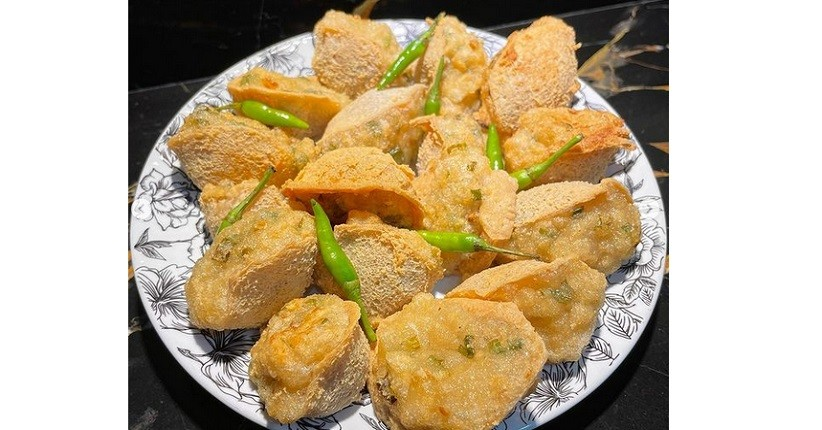Tahu: (379, 305, 541, 415), (190, 194, 312, 319), (245, 291, 367, 412), (471, 16, 591, 128), (288, 151, 421, 235), (319, 217, 446, 299), (506, 98, 619, 178), (508, 181, 628, 252), (311, 11, 407, 91)
